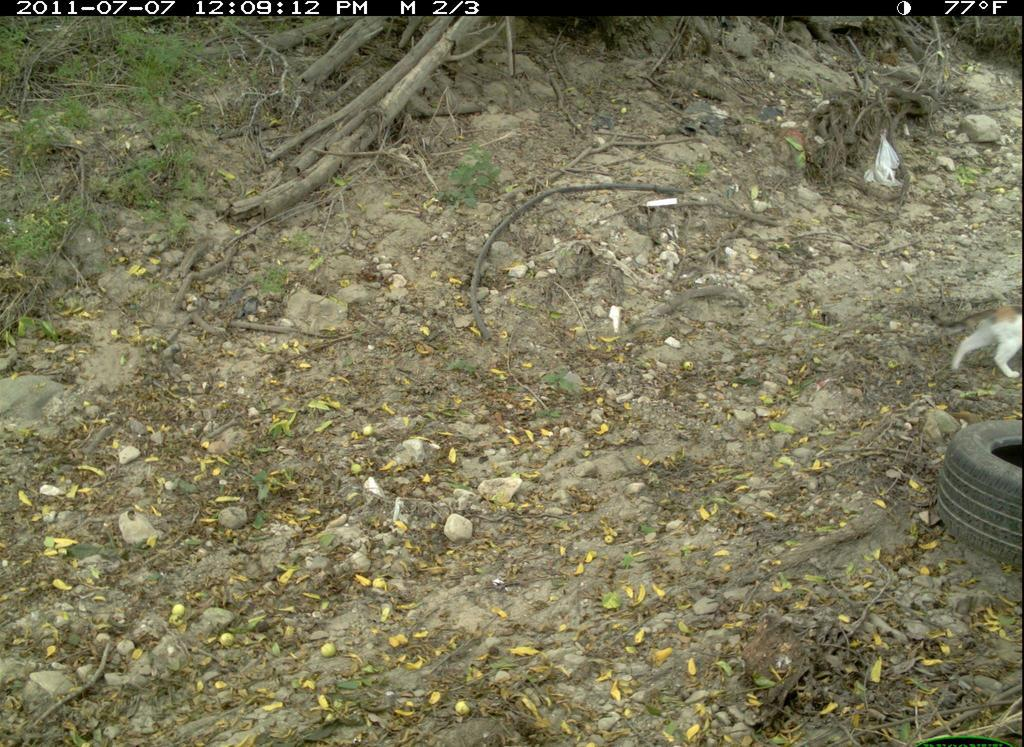cat: (948, 303, 1022, 383)
